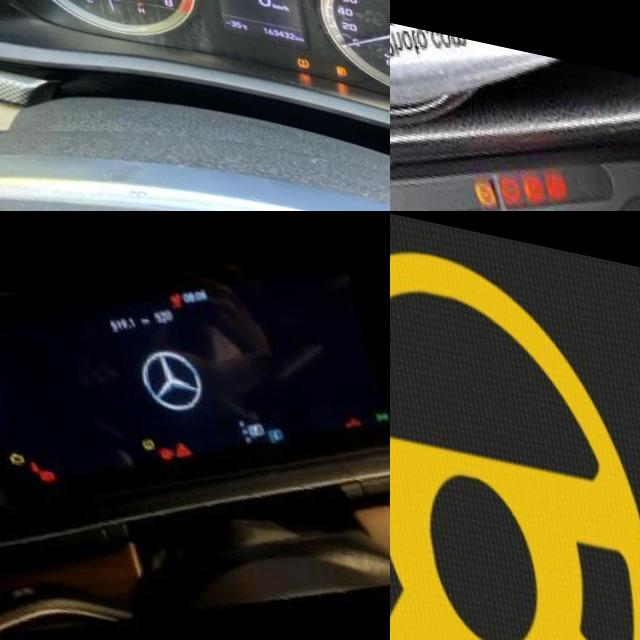Electronic Power Steering: (390, 211, 640, 640)
